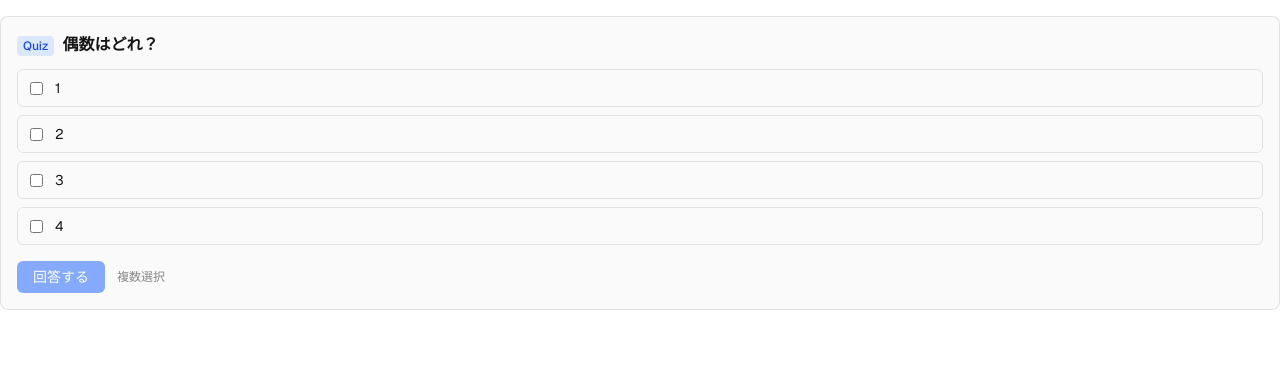
Scenario: <Quiz> 回答→即時採点→解説表示 › 複数選択は正解の組をすべて選ぶと正解になる
The width and height of the screenshot is (1280, 365).
What coordinates should you click on to do the following:
click the checkbox labelled "2"
I would click on:
 (36, 134)
Its box is [30,128,43,140].
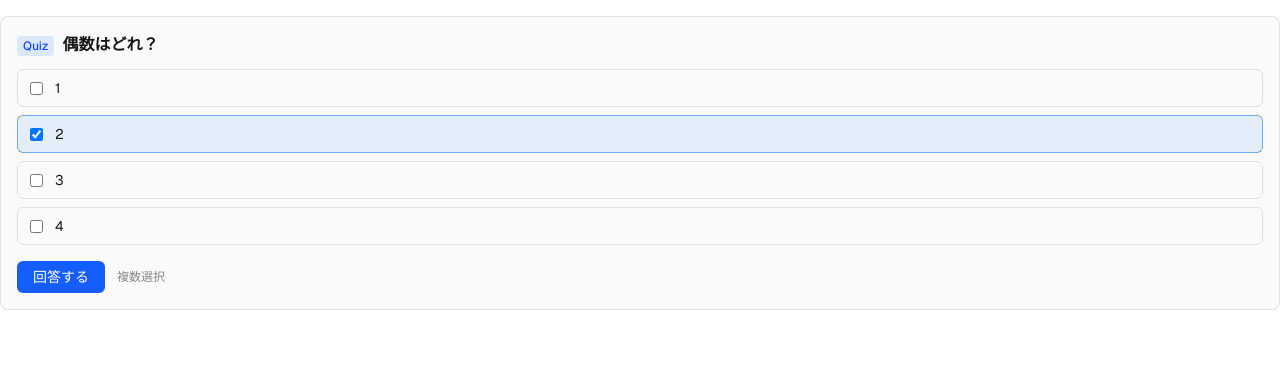
What coordinates should you click on to do the following:
click the checkbox labelled "4"
I would click on:
 (36, 226)
Its box is [30,220,43,232].
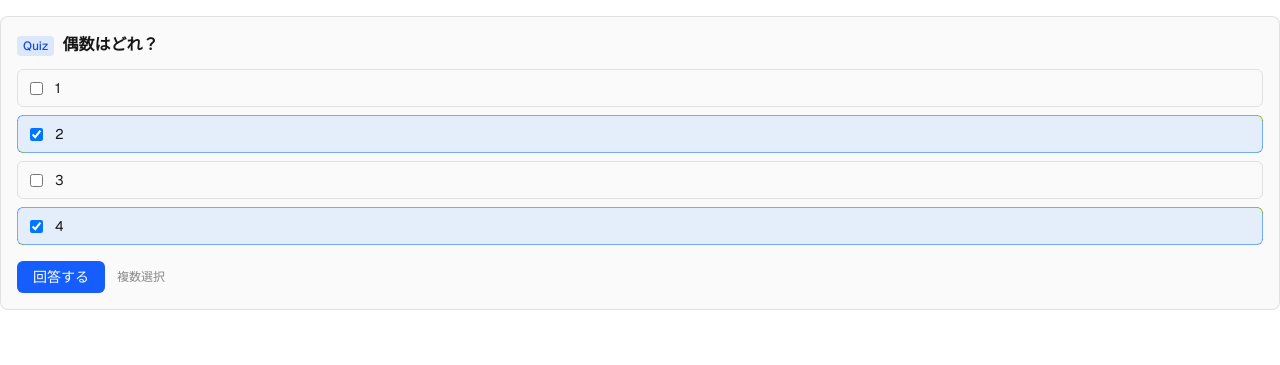
What coordinates should you click on to do the following:
click the button "回答する"
I would click on:
 (61, 277)
Its box is [17,261,105,293].
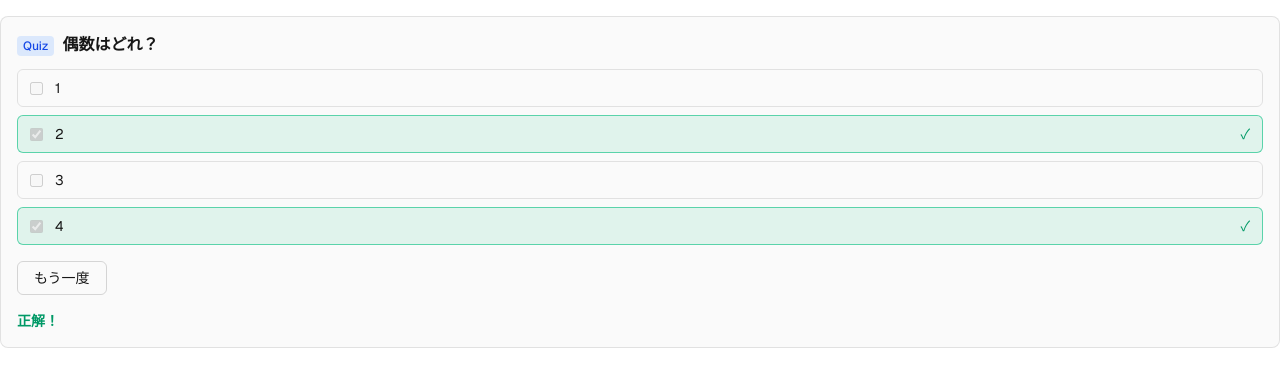
Expected: the text "正解！" is shown, [17,312,59,330]
